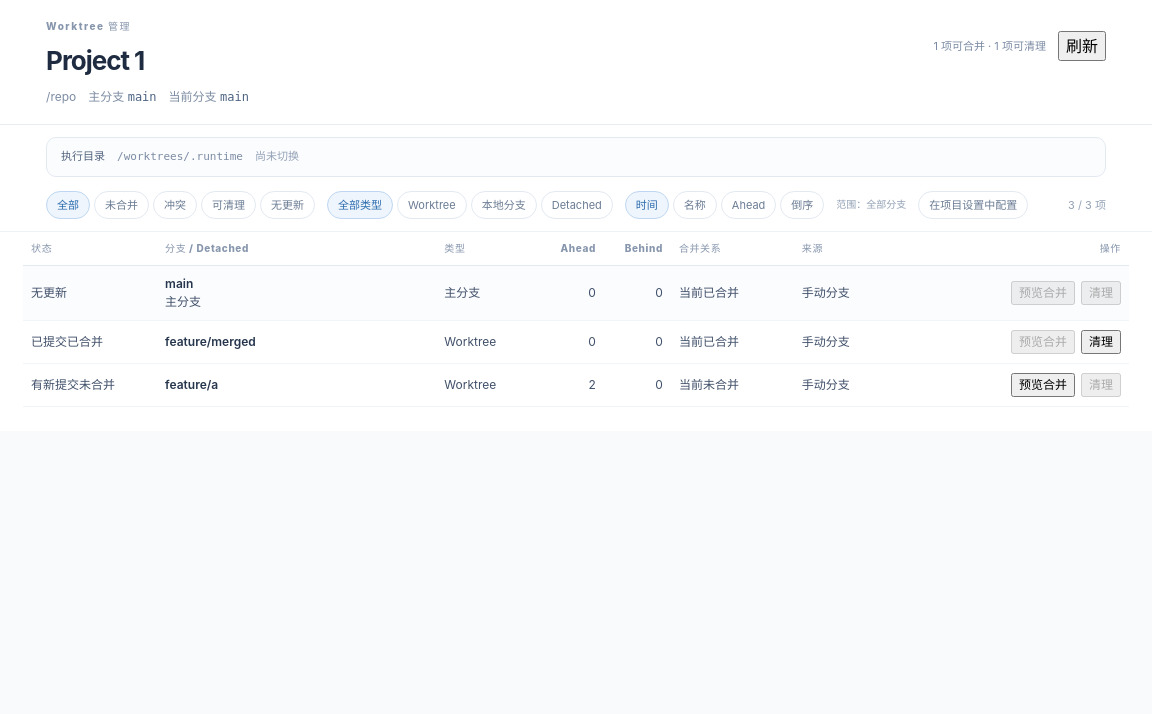
Scenario: Worktree 面板 › 不可合并的行按钮被禁用，选中后列出原因
Expected: the 1st button "预览合并" is disabled, left=1011, top=281, right=1075, bottom=305
Step 1. Click the button "无更新 main 主分支 主分支 0 0 当前已合并 手动分支 预览合并 清理" → (576, 293), box left=23, top=266, right=1129, bottom=320
(page scrolled)
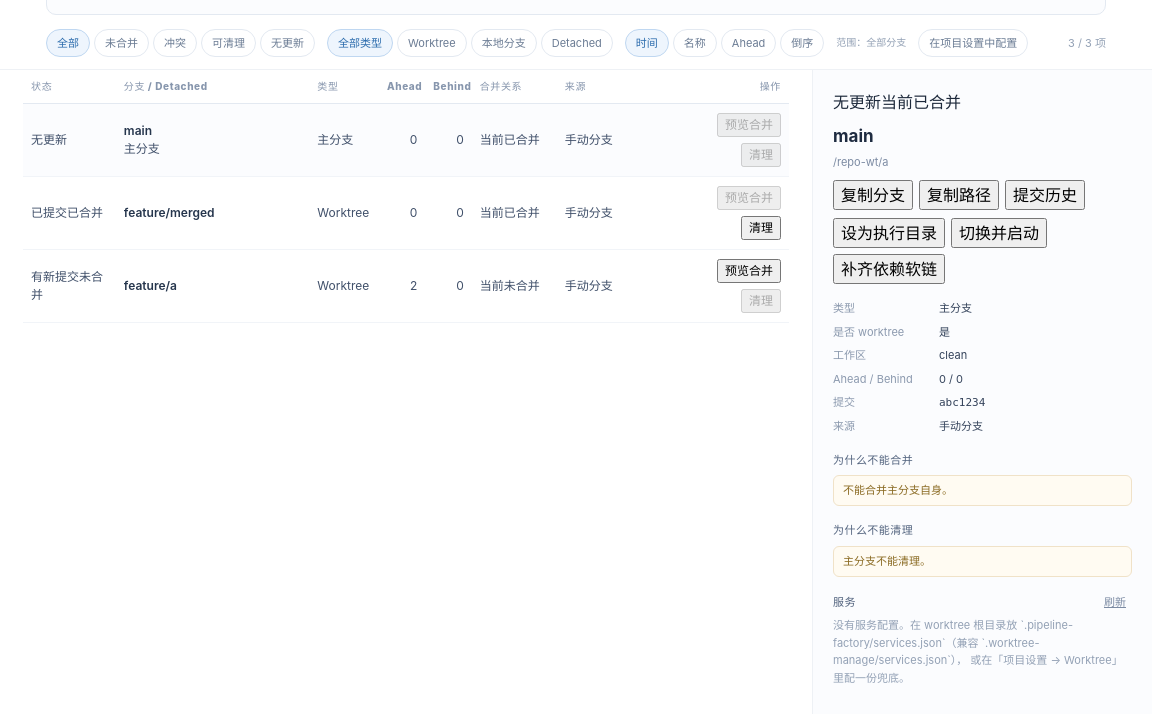
Expected: the element that starts with "无更新" shows "不能合并主分支自身", left=843, top=483, right=953, bottom=497
